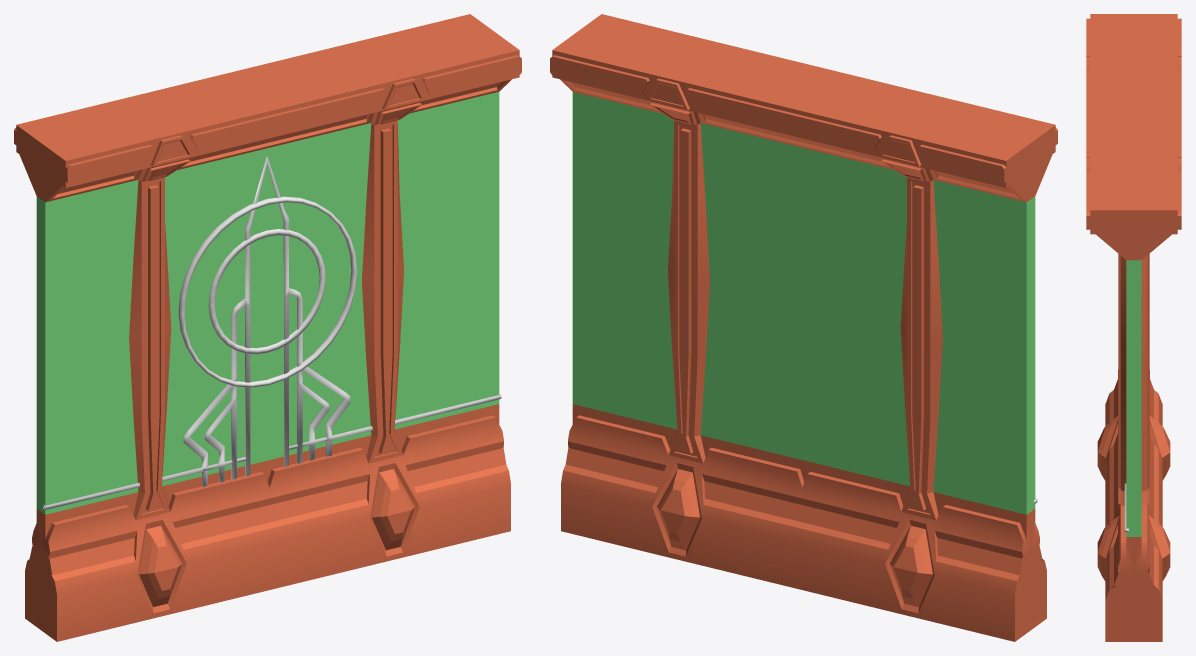
File: Fenetre_Courte_Angle.fbx
3 renders of one model, left to right at view 1: azimuth 30°, elevation 25°; view 2: azimuth 150°, elevation 25°; view 3: azimuth 270°, elevation 25°, orthographic. The views are drawn at different scales.
Parts seen in each view (by area): view 1: Mur_Vitrée; view 2: Mur_Vitrée; view 3: Mur_Vitrée.
Boxes of the visible parts, x1,y1,x2,y2 form: Mur_Vitrée: (14,14,521,641); Mur_Vitrée: (550,14,1057,641); Mur_Vitrée: (1086,14,1181,641).
Size of the model in its own units: 196 by 200 by 40.
